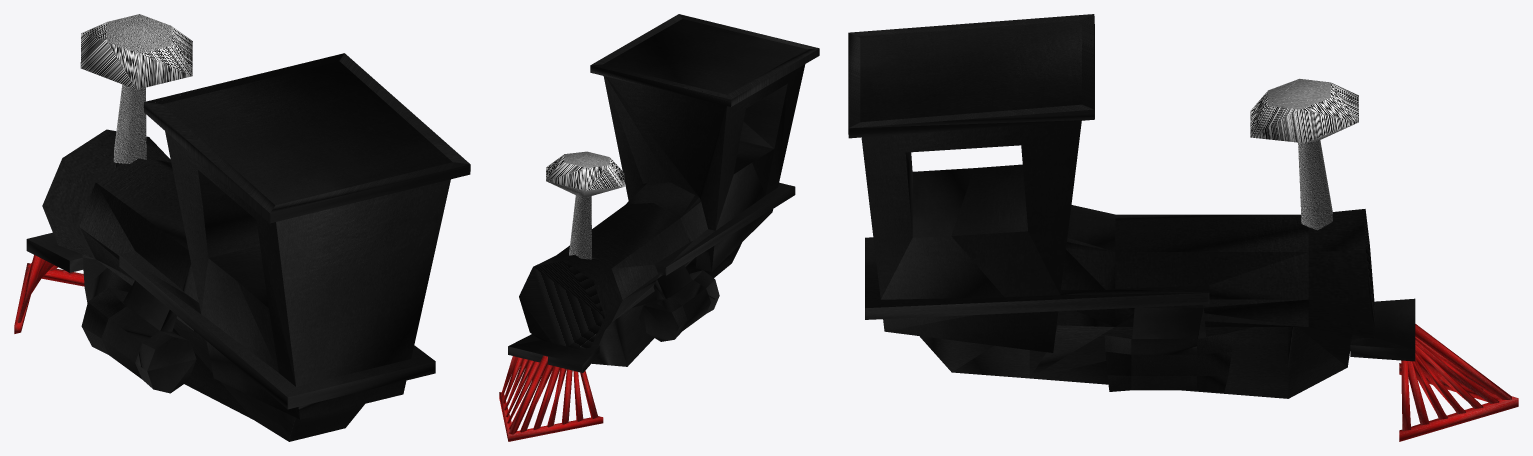
The model's file is toon_train.obj.
3 views of the same model, side by side, from view 1: azimuth 30°, elevation 25°; view 2: azimuth 150°, elevation 25°; view 3: azimuth 270°, elevation 25° (orthographic). The views are drawn at different scales.
Parts seen in each view (by area): view 1: Train, Salida_vapor, Indice; view 2: Train, Indice, Salida_vapor; view 3: Train, Salida_vapor, Indice.
Part boxes in pixels (box(x1,y1,x2,y2)): Train: box(26, 53, 470, 441); Salida_vapor: box(80, 14, 192, 163); Indice: box(14, 255, 84, 333); Train: box(508, 14, 819, 372); Indice: box(499, 355, 603, 441); Salida_vapor: box(546, 151, 624, 259); Train: box(848, 14, 1415, 398); Salida_vapor: box(1250, 78, 1358, 230); Indice: box(1399, 324, 1518, 441).
Bounding box in the file's own units: 24.29 × 40.82 × 71.93.
3 materials, 3 textured.
